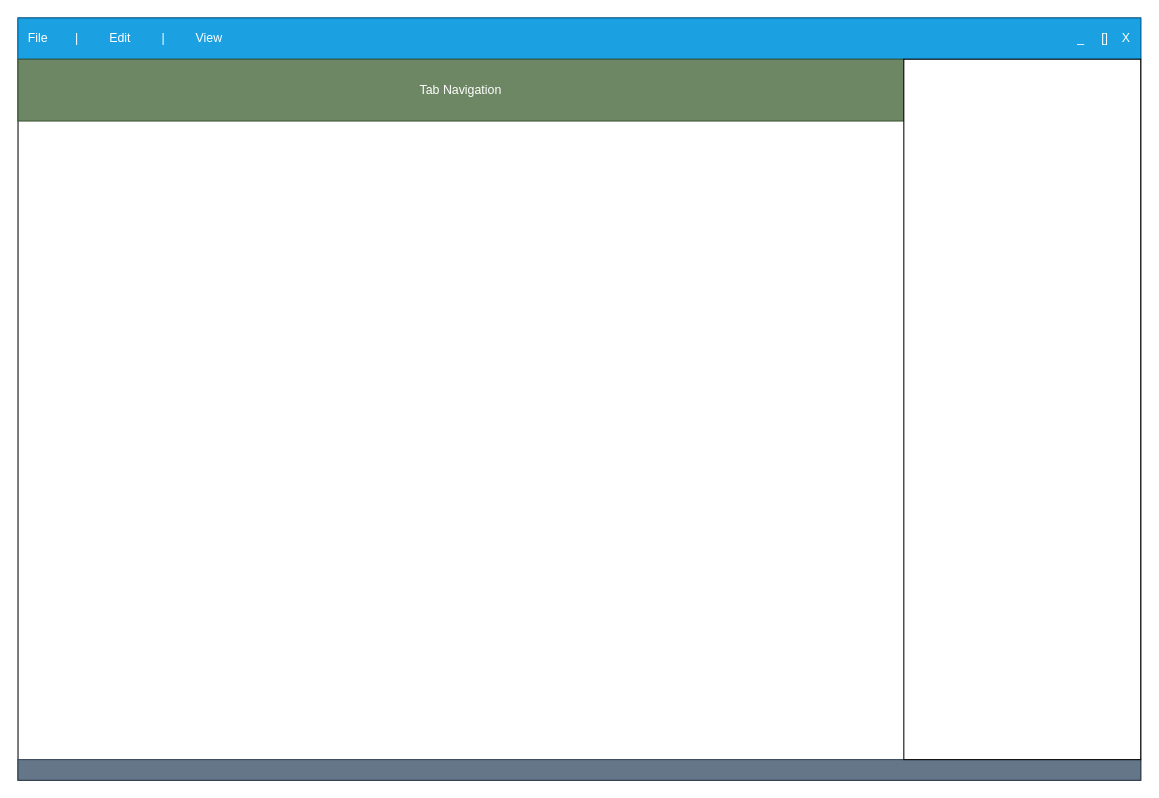
Some shapes in this 1159 by 798 pixel diagram are drawn without their labels. The centre of each missing label's shape, as x and y in pixels:
HIgh Score (flyout): (1022,409)
Status: (579,769)
